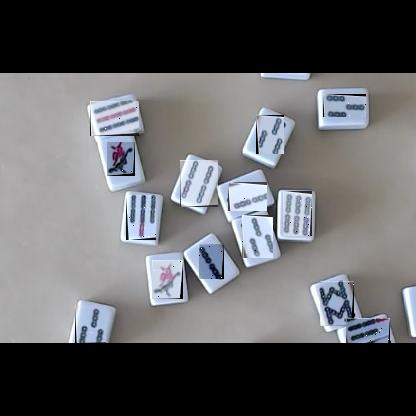1s: (152, 260, 183, 299), (107, 142, 135, 176)
2s: (228, 182, 267, 211), (199, 244, 224, 279)
3s: (242, 215, 273, 258), (75, 305, 106, 343), (256, 115, 284, 154), (323, 94, 366, 117)
4s: (180, 160, 218, 207)
6s: (283, 191, 312, 236)
7s: (126, 195, 156, 240), (346, 318, 390, 343)
8s: (320, 281, 354, 326)
9s: (90, 101, 139, 136)
